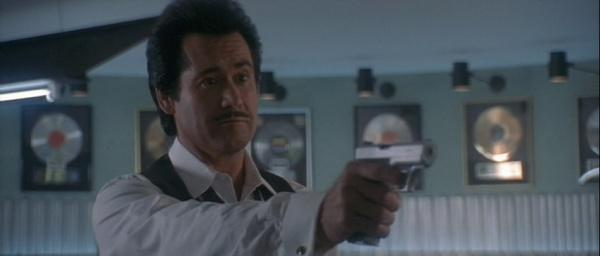Gun: (344, 142, 435, 245)
